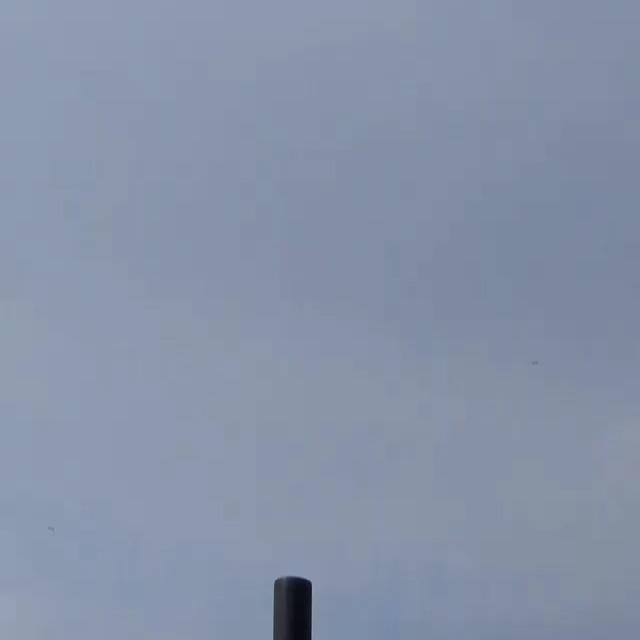bird: (530, 356, 539, 369)
